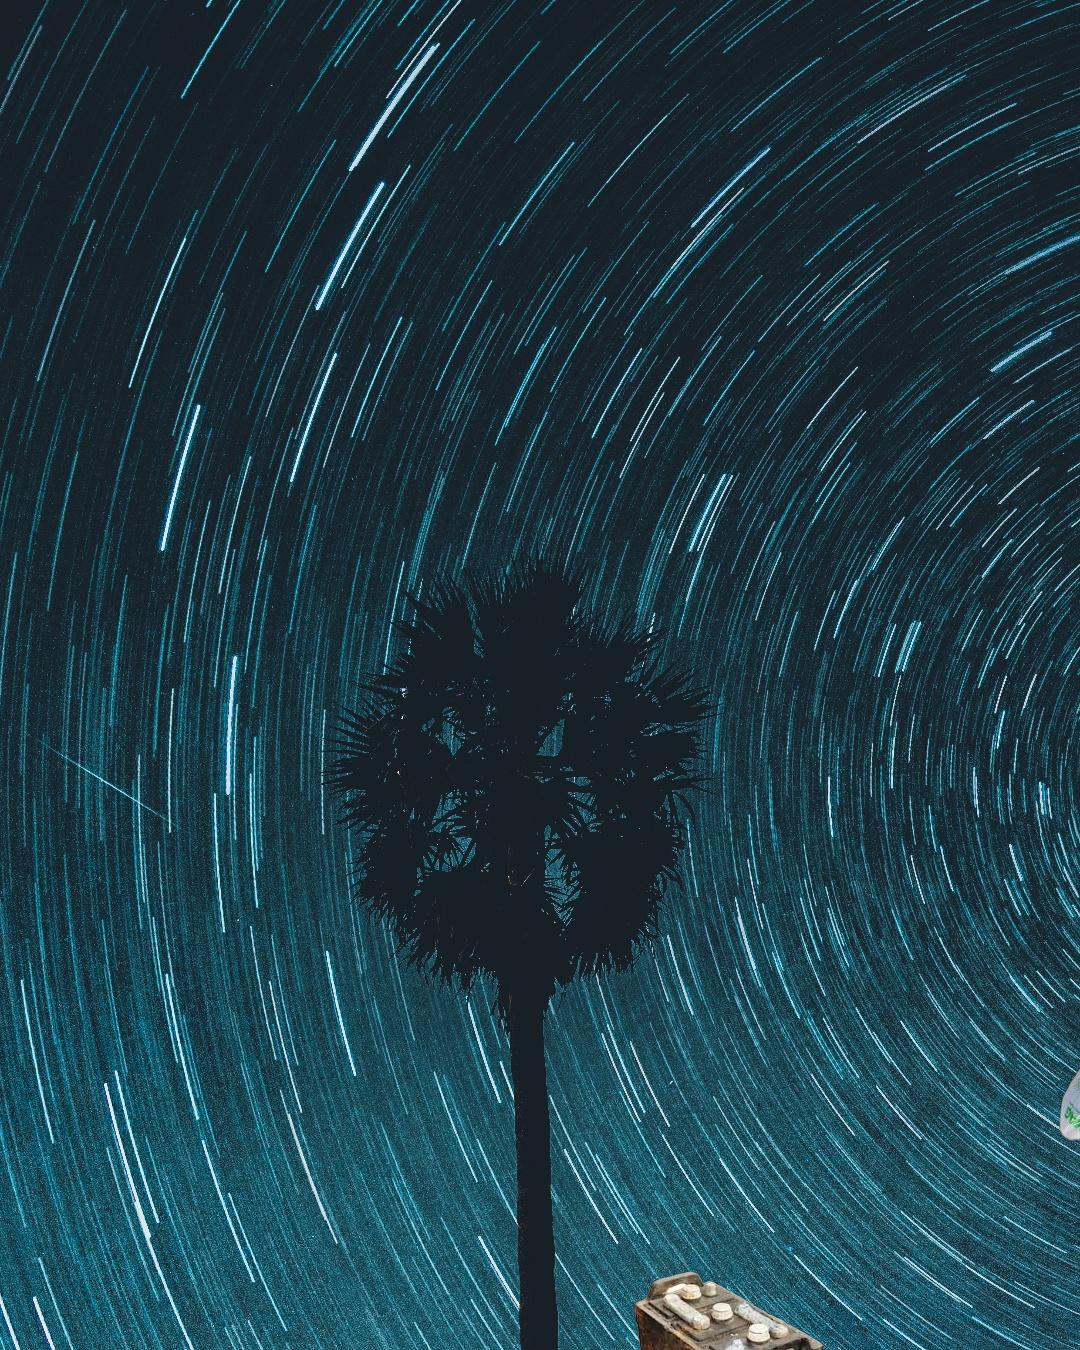battery: (631, 1270, 827, 1350)
plastic-bag: (1057, 1034, 1080, 1144)
